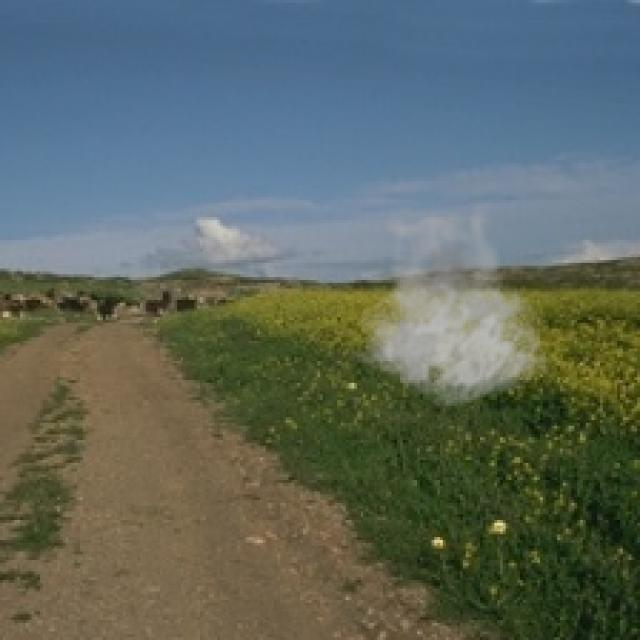smoke: (348, 197, 552, 409)
